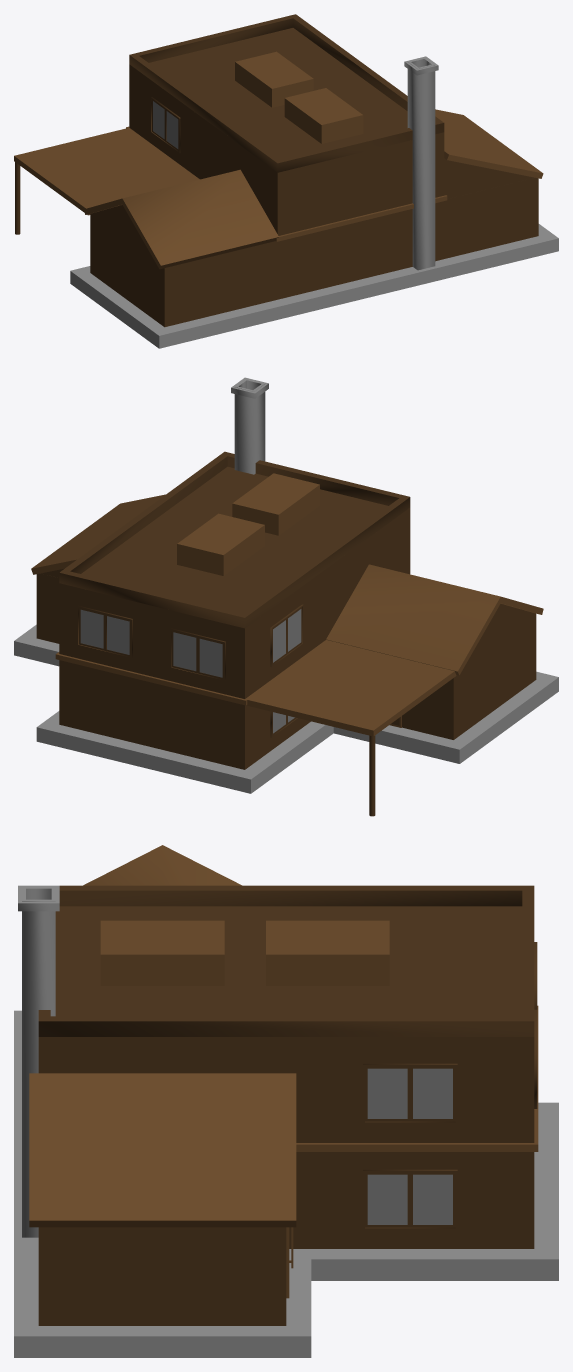
File: WrightHouse2.fbx
3 views of the same model, one above another, from view 1: azimuth 30°, elevation 25°; view 2: azimuth 150°, elevation 25°; view 3: azimuth 270°, elevation 25° (orthographic). The views are drawn at different scales.
Visible parts, largest first — view 1: Root.001, Root.223, Root.022, Root.028, Root.217, Root.050, Root.020, Root.057, Root.397, Root.048, Root.030, Root.033 (+26 smaller); view 2: Root.001, Root.029, Root.223, Root.217, Root.023, Root.020, Root.048, Root.033, Root.030, Root.393, Root.032, Root.389 (+29 smaller); view 3: Root.265, Root.001, Root.021, Root.054, Root.027, Root.389, Root.033, Root.032, Root.030, Root.383, Root.384, Root.397 (+19 smaller).
Part boxes in pixels (x1=…): Root.001: x1=149, y1=28, x2=407, y2=159; Root.223: x1=122, y1=169, x2=278, y2=265; Root.022: x1=277, y1=136, x2=444, y2=235; Root.028: x1=277, y1=201, x2=444, y2=299; Root.217: x1=14, y1=128, x2=197, y2=208; Root.050: x1=164, y1=241, x2=277, y2=326; Root.020: x1=129, y1=69, x2=277, y2=233; Root.057: x1=444, y1=177, x2=538, y2=258; Root.397: x1=407, y1=62, x2=435, y2=270; Root.048: x1=90, y1=214, x2=164, y2=326; Root.030: x1=129, y1=14, x2=443, y2=163; Root.033: x1=129, y1=55, x2=444, y2=172; Root.001: x1=81, y1=466, x2=388, y2=613; Root.029: x1=59, y1=660, x2=244, y2=769; Root.223: x1=326, y1=564, x2=500, y2=671; Root.217: x1=247, y1=640, x2=454, y2=730; Root.023: x1=59, y1=588, x2=244, y2=698; Root.020: x1=245, y1=512, x2=410, y2=698; Root.048: x1=453, y1=614, x2=536, y2=739; Root.033: x1=59, y1=497, x2=410, y2=628; Root.030: x1=60, y1=451, x2=409, y2=617; Root.393: x1=36, y1=727, x2=250, y2=793; Root.032: x1=70, y1=456, x2=398, y2=573; Root.389: x1=37, y1=711, x2=324, y2=779; Root.265: x1=29, y1=1073, x2=296, y2=1220; Root.001: x1=55, y1=906, x2=522, y2=1016; Root.021: x1=38, y1=1044, x2=534, y2=1142; Root.054: x1=38, y1=1227, x2=286, y2=1325; Root.027: x1=289, y1=1152, x2=534, y2=1248; Root.389: x1=14, y1=1102, x2=558, y2=1259; Root.033: x1=38, y1=1021, x2=534, y2=1036; Root.032: x1=59, y1=890, x2=522, y2=906; Root.030: x1=38, y1=885, x2=534, y2=1021; Root.383: x1=14, y1=1259, x2=311, y2=1336; Root.384: x1=14, y1=1336, x2=311, y2=1357; Root.397: x1=22, y1=901, x2=55, y2=1237.
Bounding box in the file's own units: 1945 × 1001 × 1375.
